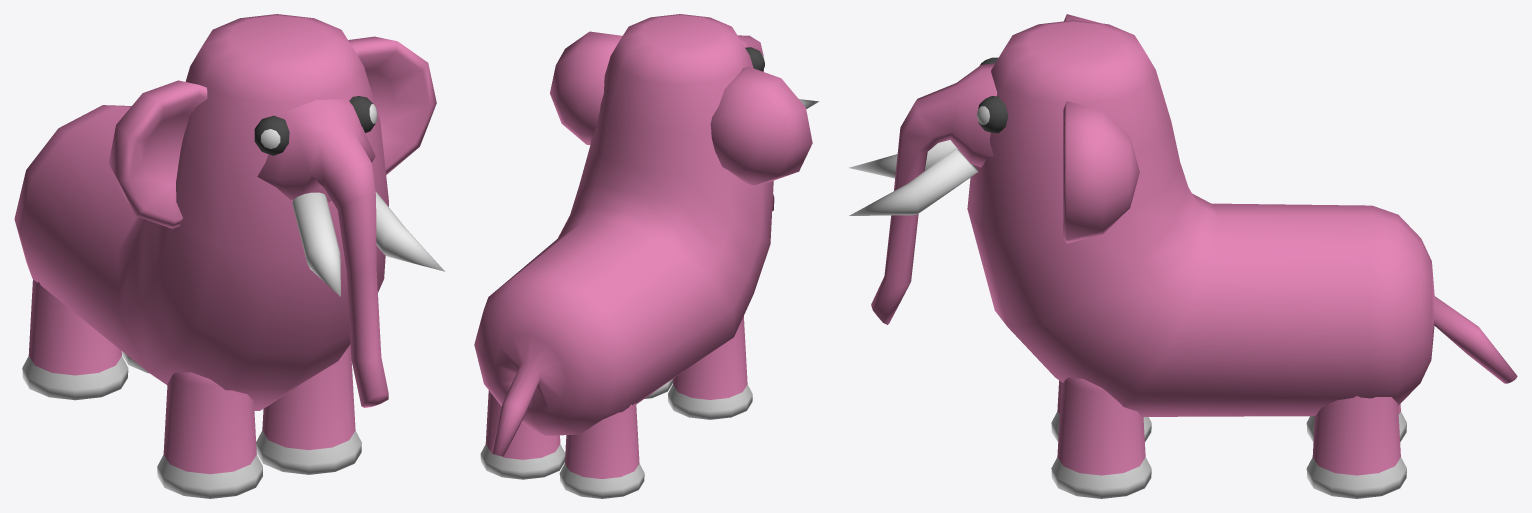
The picture shows the model from 3 angles, left to right: view 1: azimuth 30°, elevation 25°; view 2: azimuth 150°, elevation 25°; view 3: azimuth 270°, elevation 25°; orthographic projection. The views are drawn at different scales.
Visible parts, largest first — view 1: 27; view 2: 27; view 3: 27.
Part boxes in pixels (x1=…): 27: x1=14, y1=14, x2=445, y2=498; 27: x1=474, y1=14, x2=819, y2=498; 27: x1=849, y1=14, x2=1517, y2=498.
Size of the model in its own units: 243 by 320 by 468.
